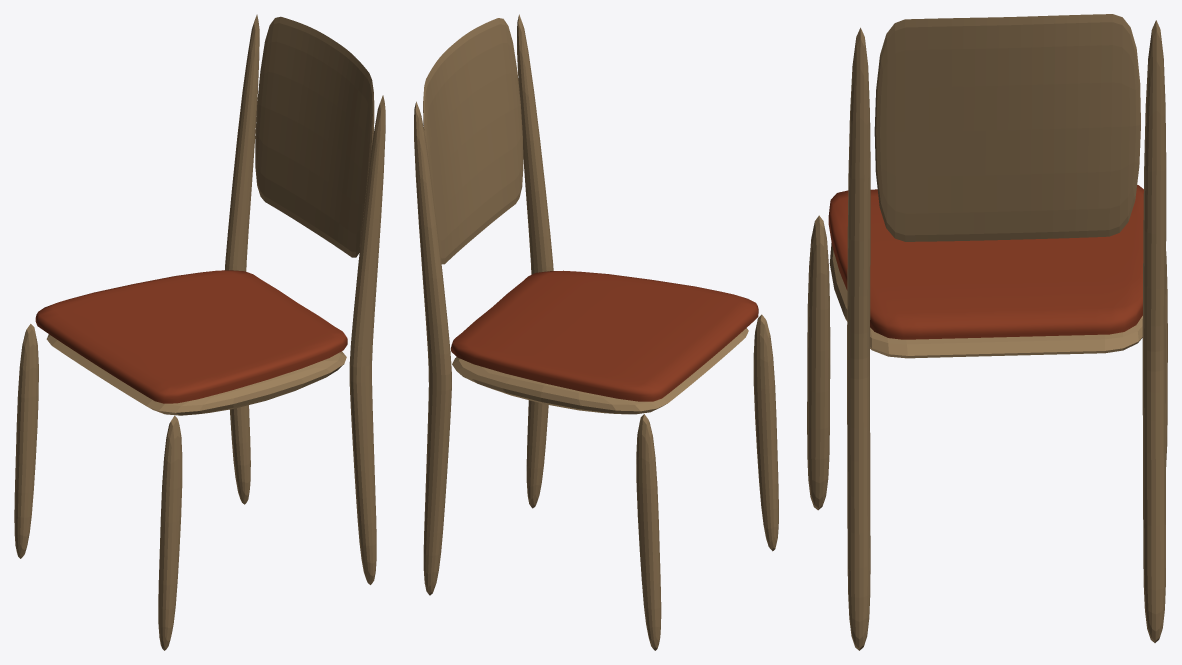
Rendered from chair.obj.
The picture shows the model from 3 angles, left to right: view 1: azimuth 30°, elevation 25°; view 2: azimuth 150°, elevation 25°; view 3: azimuth 270°, elevation 25°; orthographic projection. The views are drawn at different scales.
Parts seen in each view (by area): view 1: cus_chair.002_Cube.022; view 2: cus_chair.002_Cube.022; view 3: cus_chair.002_Cube.022.
Part boxes in pixels (x1,y1,x2,y2): cus_chair.002_Cube.022: (14, 14, 385, 650); cus_chair.002_Cube.022: (414, 14, 778, 650); cus_chair.002_Cube.022: (807, 14, 1167, 650).
Size of the model in its own units: 0.4734 by 0.8628 by 0.4364.
